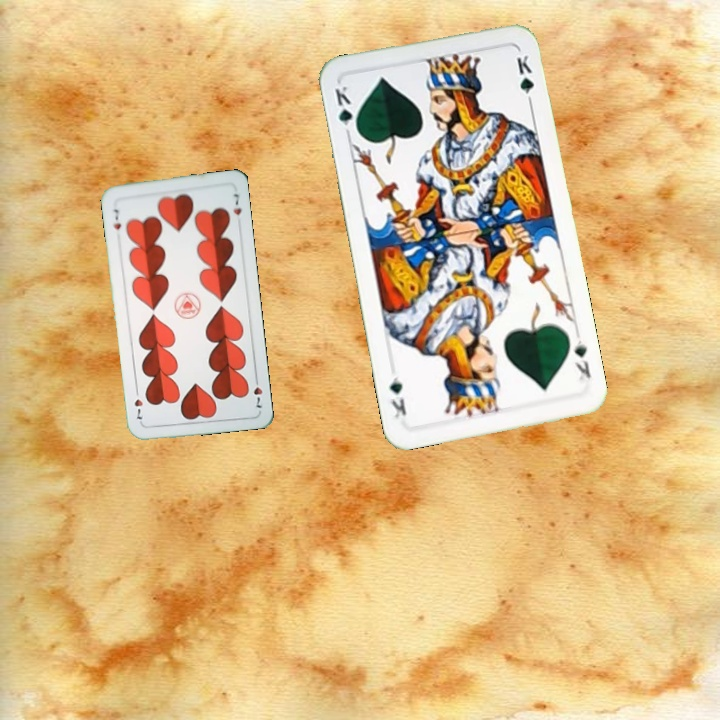GK: (331, 82, 361, 137), (570, 336, 594, 383)
H7: (250, 372, 265, 410), (110, 205, 124, 232)
